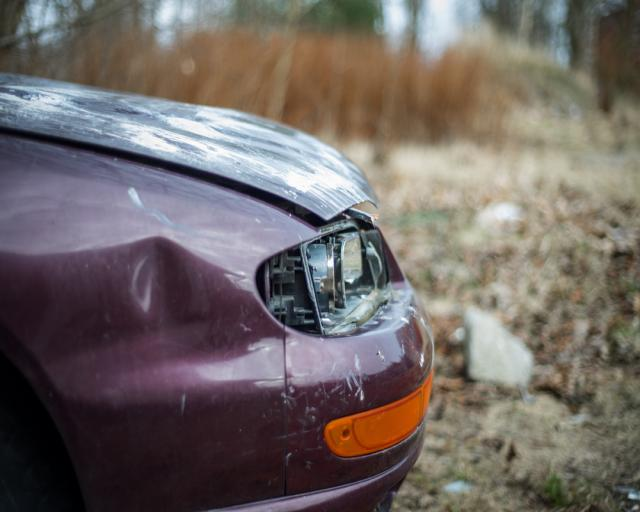dent: (43, 236, 283, 402)
lamp broken: (305, 229, 386, 336)
